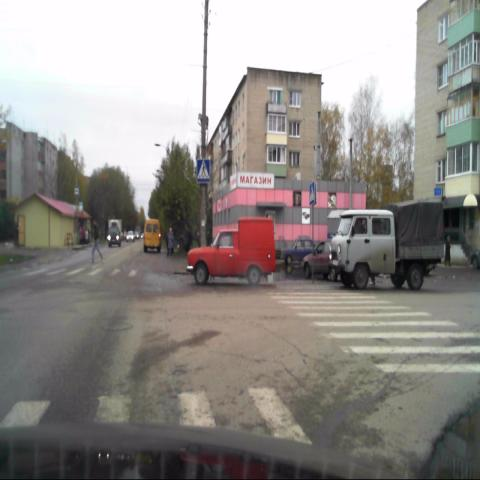5_19_1: (196, 158, 212, 184)
